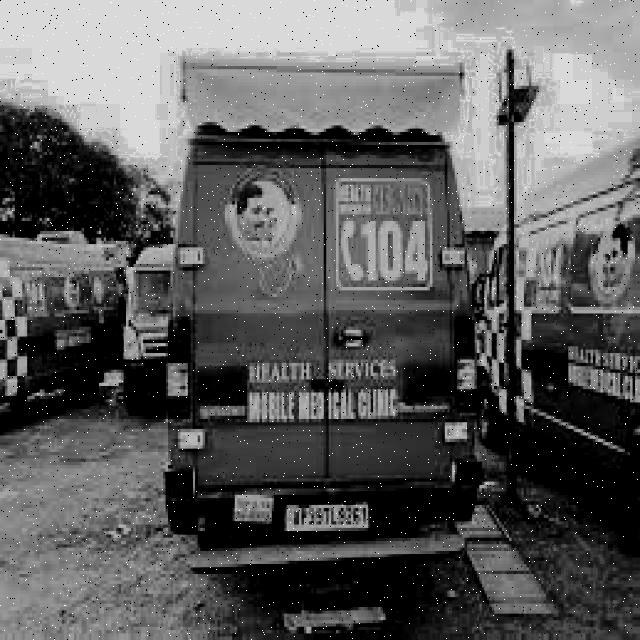LCV: (169, 127, 475, 527)
